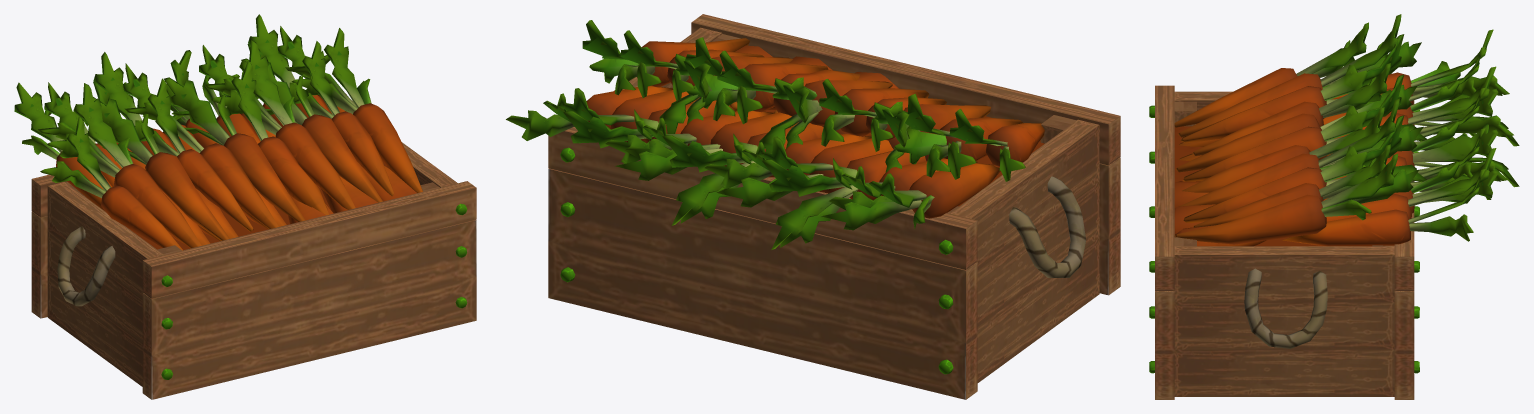
Rendered from FarmCrate_Carrot.gltf.
3 renders of one model, left to right at view 1: azimuth 30°, elevation 25°; view 2: azimuth 150°, elevation 25°; view 3: azimuth 270°, elevation 25°, orthographic. The views are drawn at different scales.
Parts seen in each view (by area): view 1: FarmCrate_Carrot; view 2: FarmCrate_Carrot; view 3: FarmCrate_Carrot.
Part boxes in pixels (left/top/right/bottom): FarmCrate_Carrot: left=14, top=14, right=476, bottom=399; FarmCrate_Carrot: left=506, top=14, right=1120, bottom=399; FarmCrate_Carrot: left=1149, top=14, right=1519, bottom=399.
Bounding box in the file's own units: 0.7138 × 0.4113 × 0.567.
3 materials, 3 textured.
